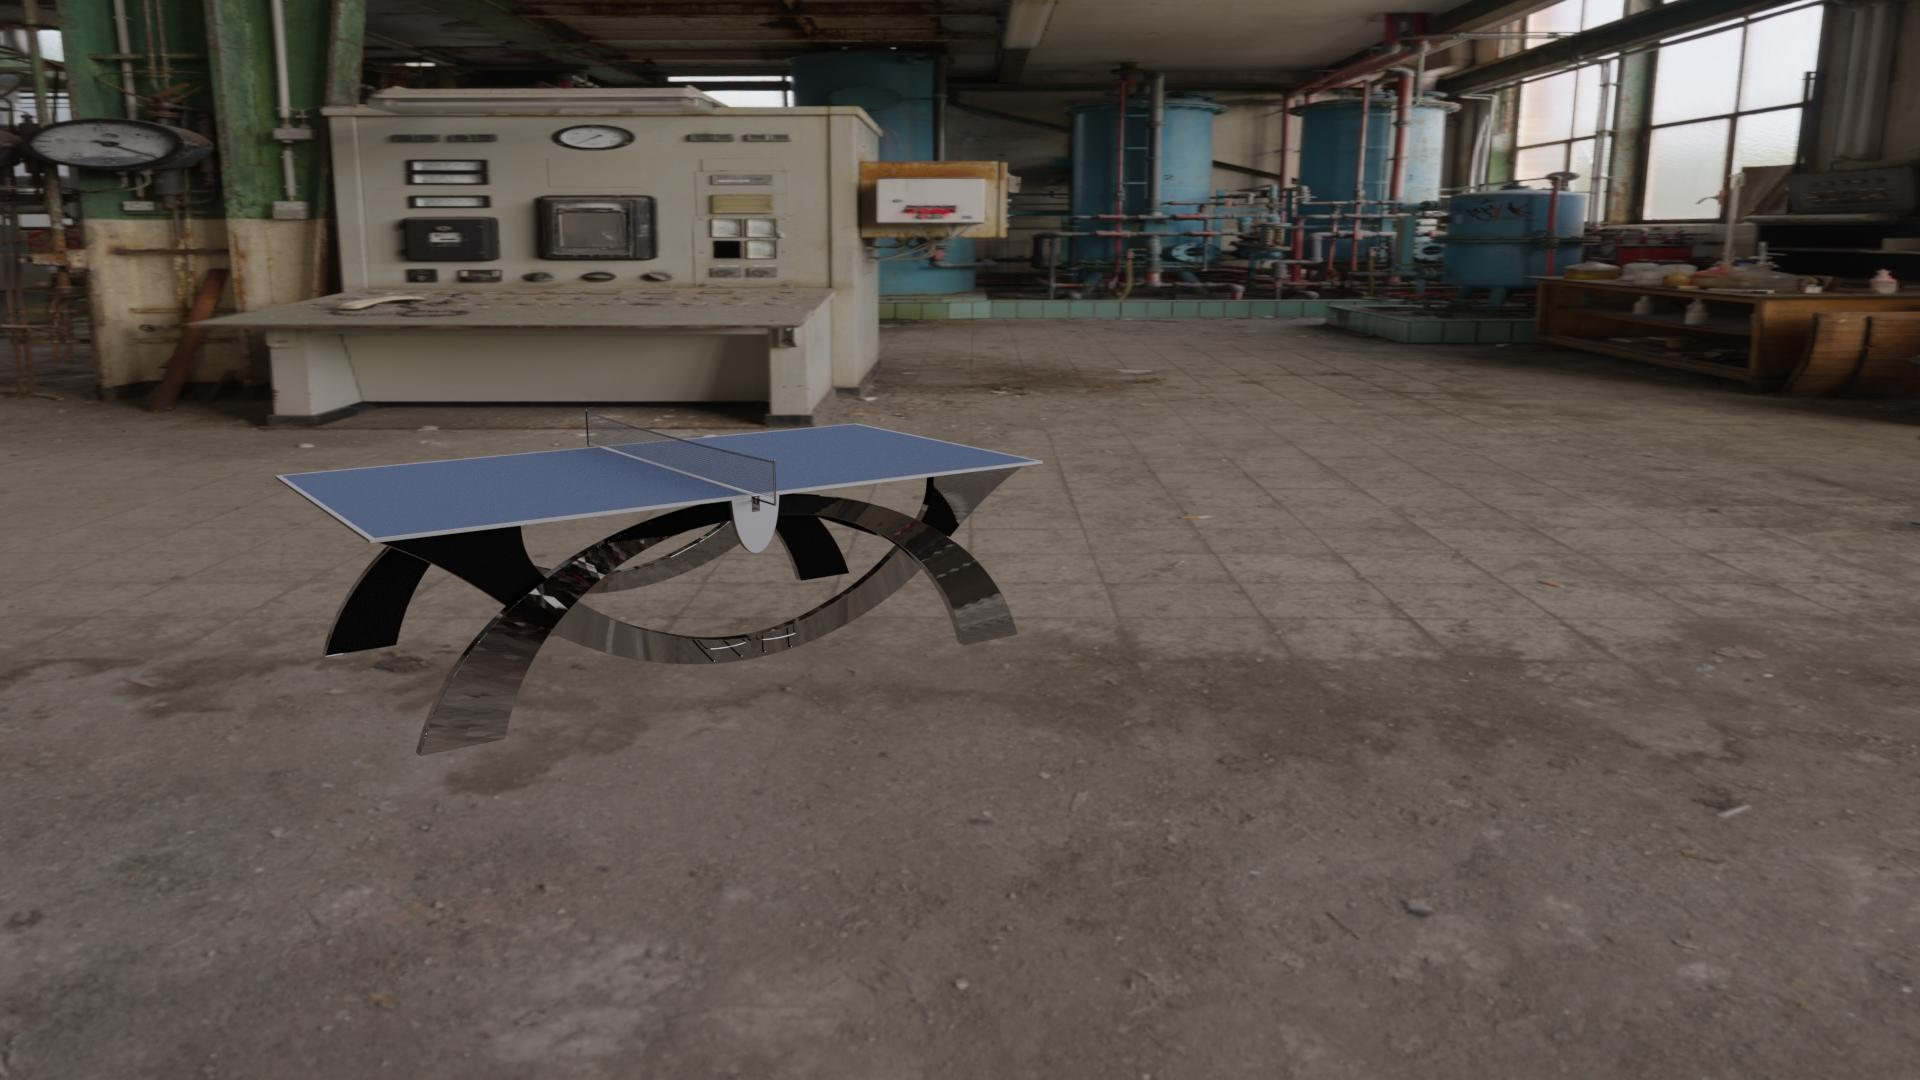table: (281, 425, 1036, 538)
